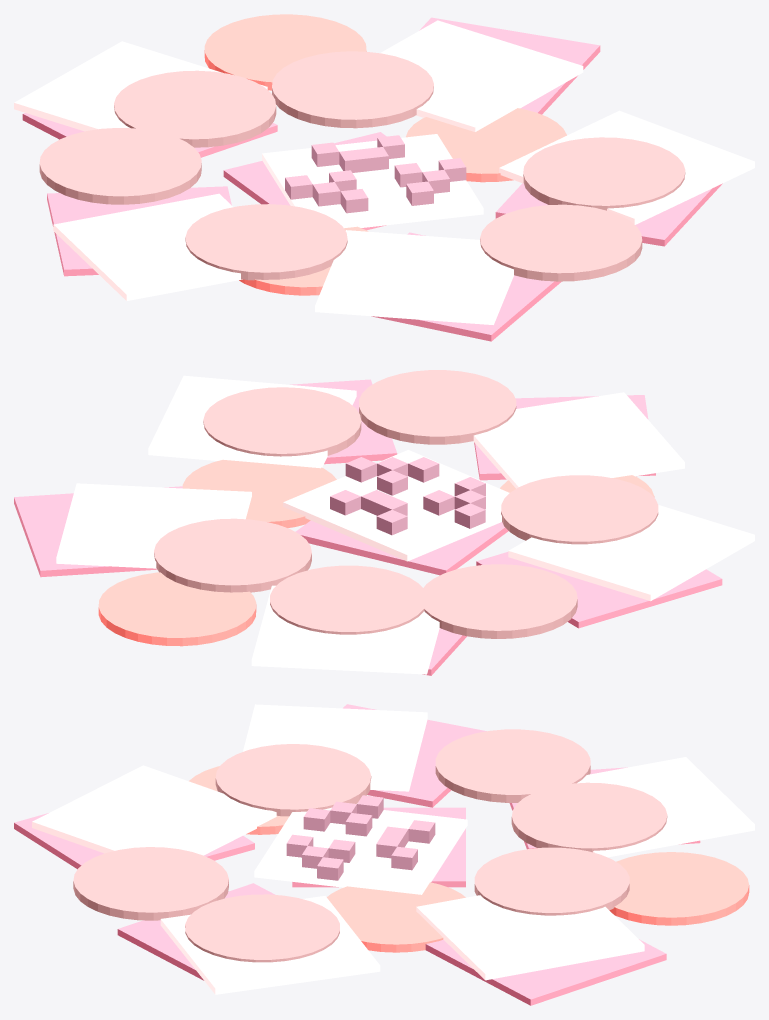
The model's file is crushedrabidmushroom.fbx.
The picture shows the model from 3 angles, top to bottom: view 1: azimuth 30°, elevation 25°; view 2: azimuth 150°, elevation 25°; view 3: azimuth 270°, elevation 25°; orthographic projection. The views are drawn at different scales.
Visible parts, largest first — view 1: Cube.003, Cube.002, Cube, Cube.001; view 2: Cube.003, Cube.002, Cube, Cube.001; view 3: Cube.003, Cube.002, Cube.001, Cube.
Part boxes in pixels (x1,y1,x2,y2): Cube.003: (14, 20, 754, 324); Cube.002: (39, 51, 685, 281); Cube: (22, 17, 722, 341); Cube.001: (204, 14, 566, 295); Cube.003: (56, 375, 754, 674); Cube.002: (154, 370, 658, 638); Cube: (14, 379, 722, 675); Cube.001: (98, 459, 654, 646); Cube.003: (32, 704, 754, 994); Cube.002: (73, 729, 667, 962); Cube.001: (189, 766, 749, 952); Cube: (14, 704, 700, 1005).
Bounding box in the file's own units: 232 × 9.15 × 245.
